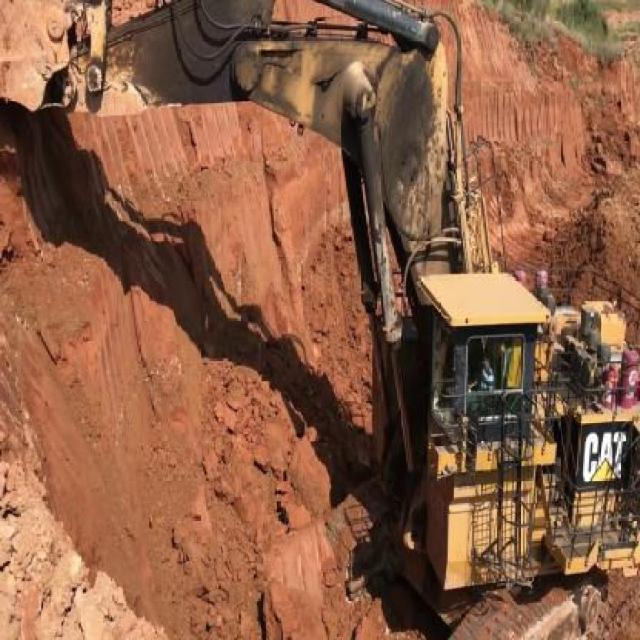excavator: (0, 0, 638, 637)
